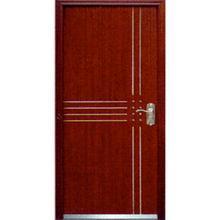door: (64, 7, 157, 214)
